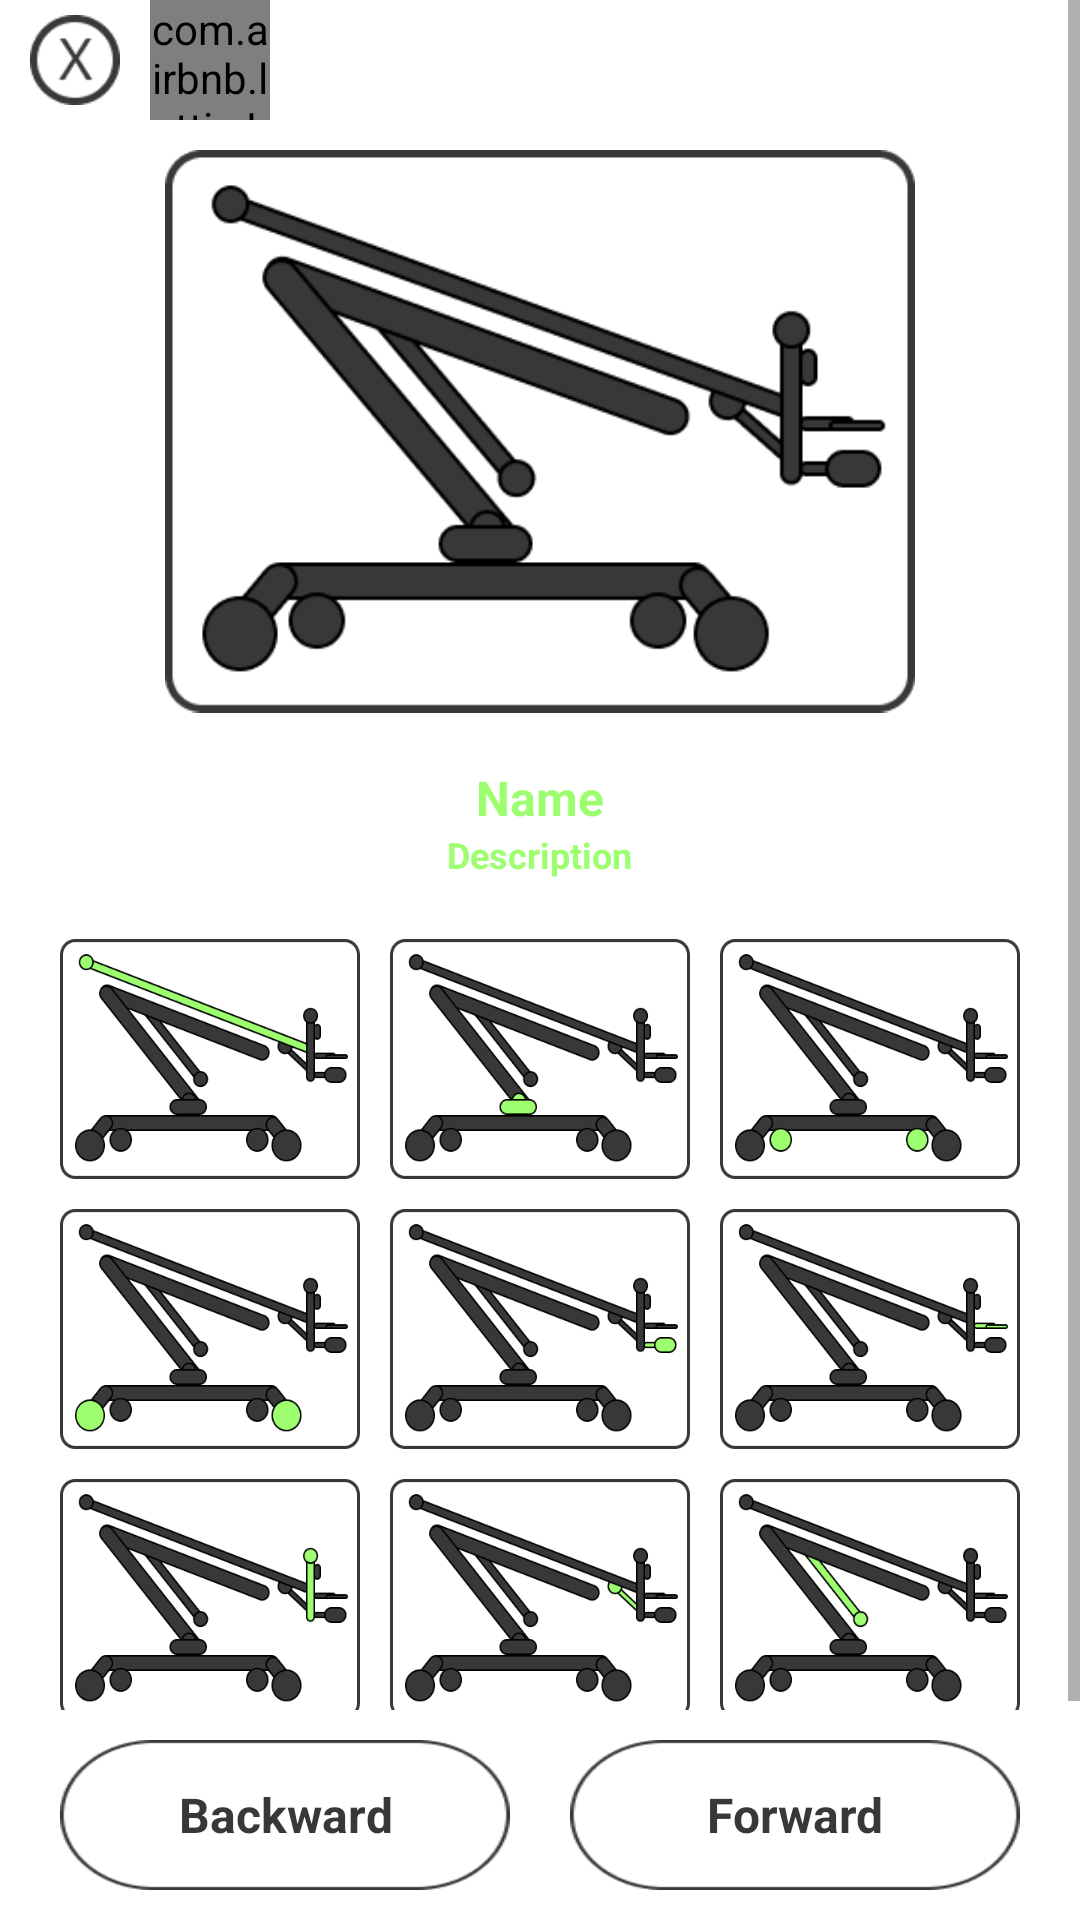

Locate icon controls on the screen. Image size 1080x1920, boxes as bbox(x1, y1, x2, y2).
exit dialog: bbox(30, 15, 120, 105)
